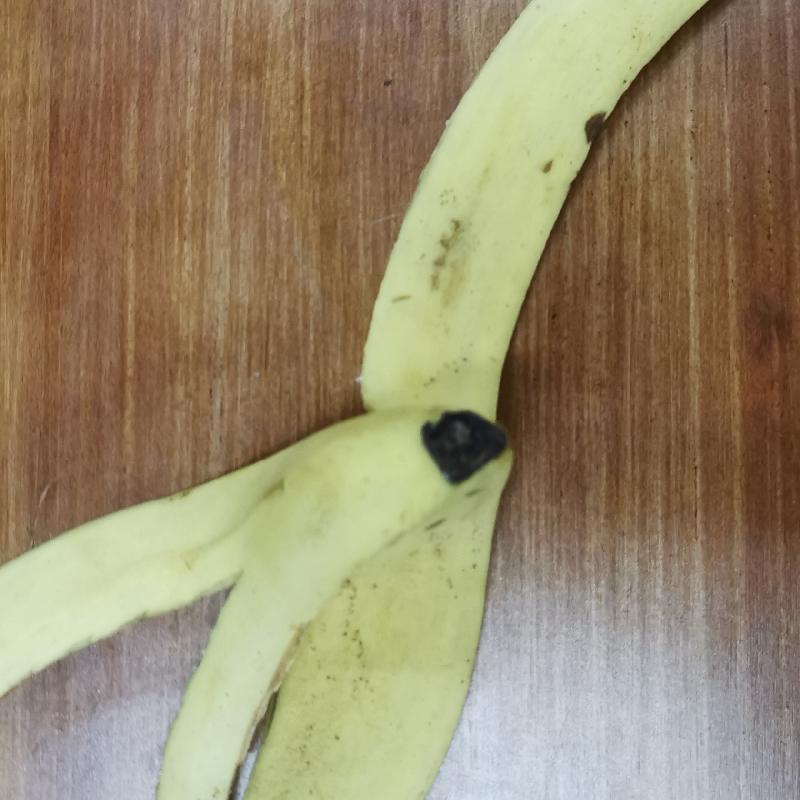bananas: (4, 0, 745, 799)
